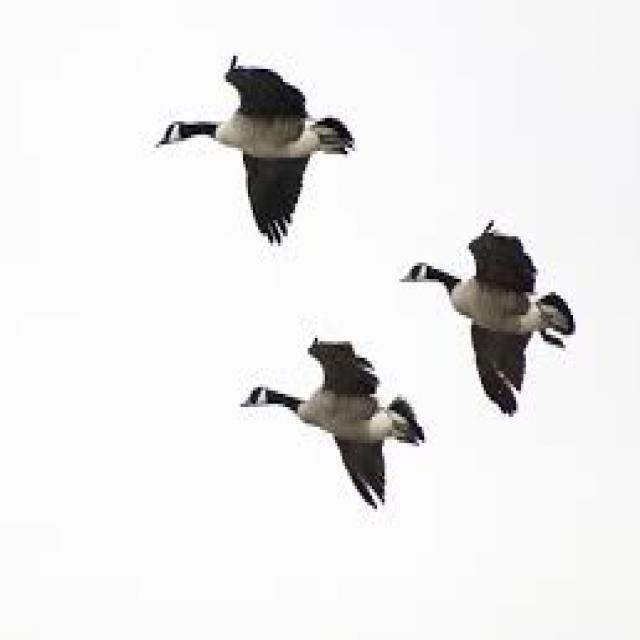bird: (362, 141, 605, 443), (104, 19, 375, 262), (226, 288, 447, 552)
